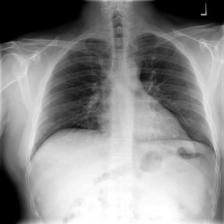normal: (22, 27, 220, 167)
